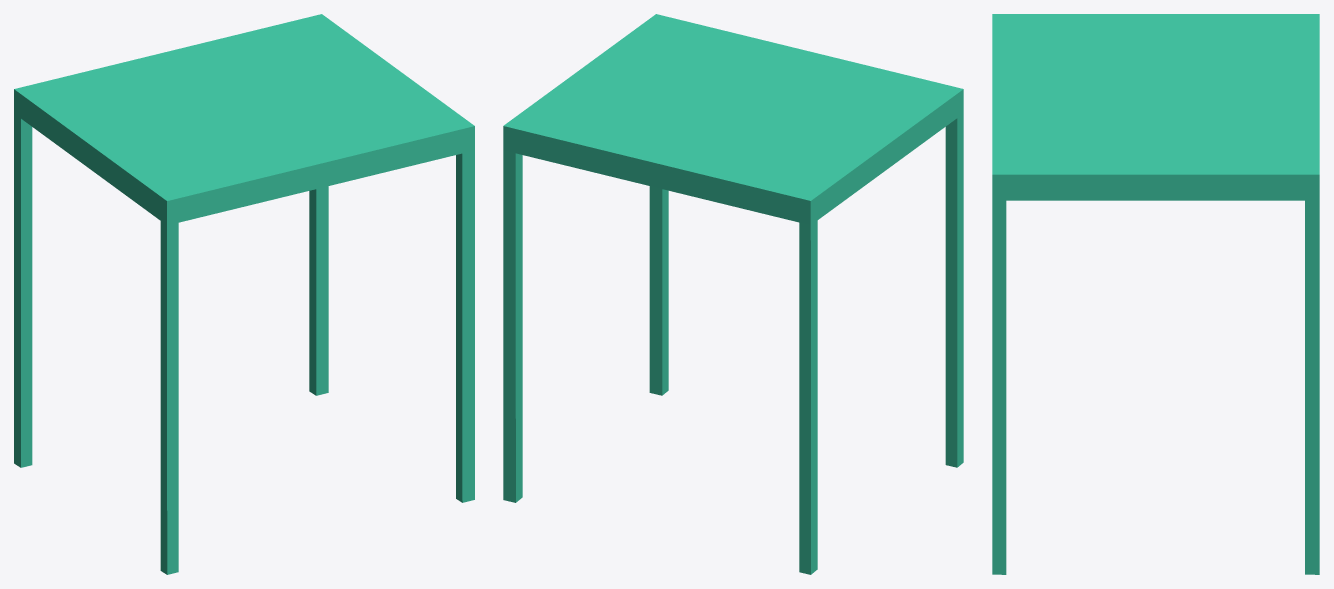
Rendered from D_Machine_Up.fbx.
3 views of the same model, side by side, from view 1: azimuth 30°, elevation 25°; view 2: azimuth 150°, elevation 25°; view 3: azimuth 270°, elevation 25° (orthographic). The views are drawn at different scales.
Visible parts, largest first — view 1: D_Machine_Up; view 2: D_Machine_Up; view 3: D_Machine_Up.
Part boxes in pixels (bbox=[...]): D_Machine_Up: bbox=[14, 14, 474, 574]; D_Machine_Up: bbox=[503, 14, 963, 574]; D_Machine_Up: bbox=[992, 14, 1319, 574].
Bounding box in the file's own units: 83.63 × 97.14 × 72.02.
